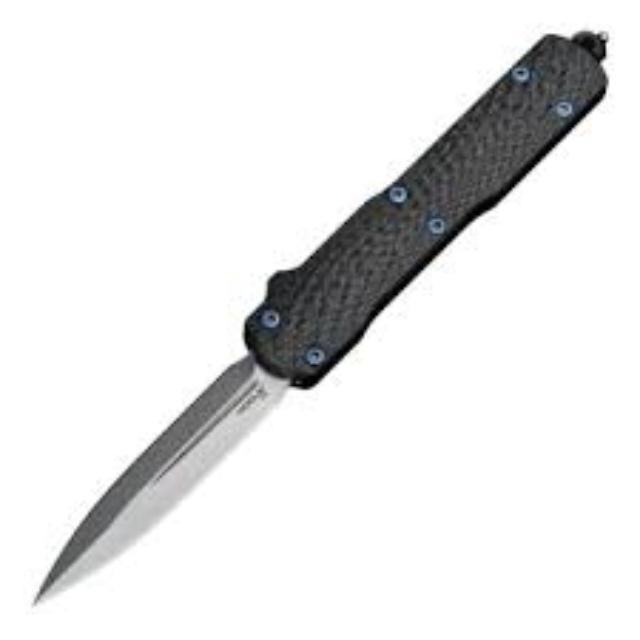Knife: (31, 26, 608, 606)
